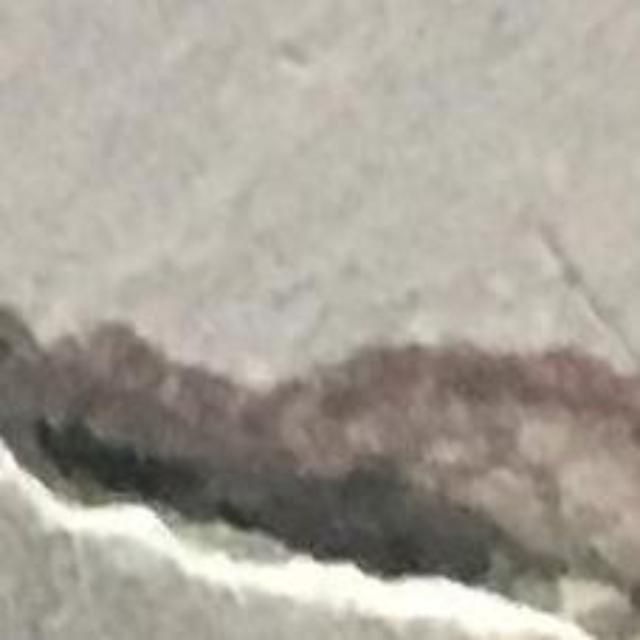crack: (0, 308, 639, 639)
